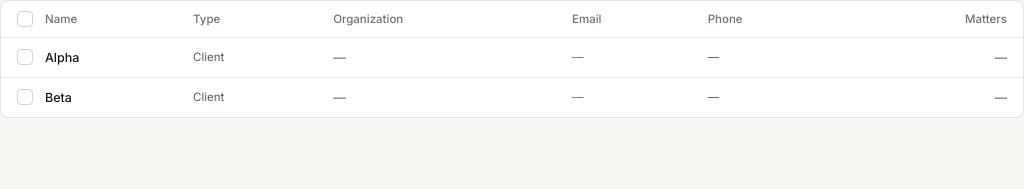
it: ContactsTable — permissions + cap › canEdit=false / canDelete=false leave only Export in the bar
Click the checkbox named "Select Alpha": click(25, 57) [17,49,33,65]
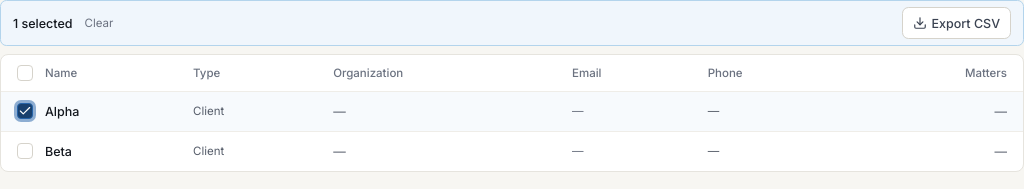
Expected: the button "Export CSV" is shown, [902,7,1011,39]
